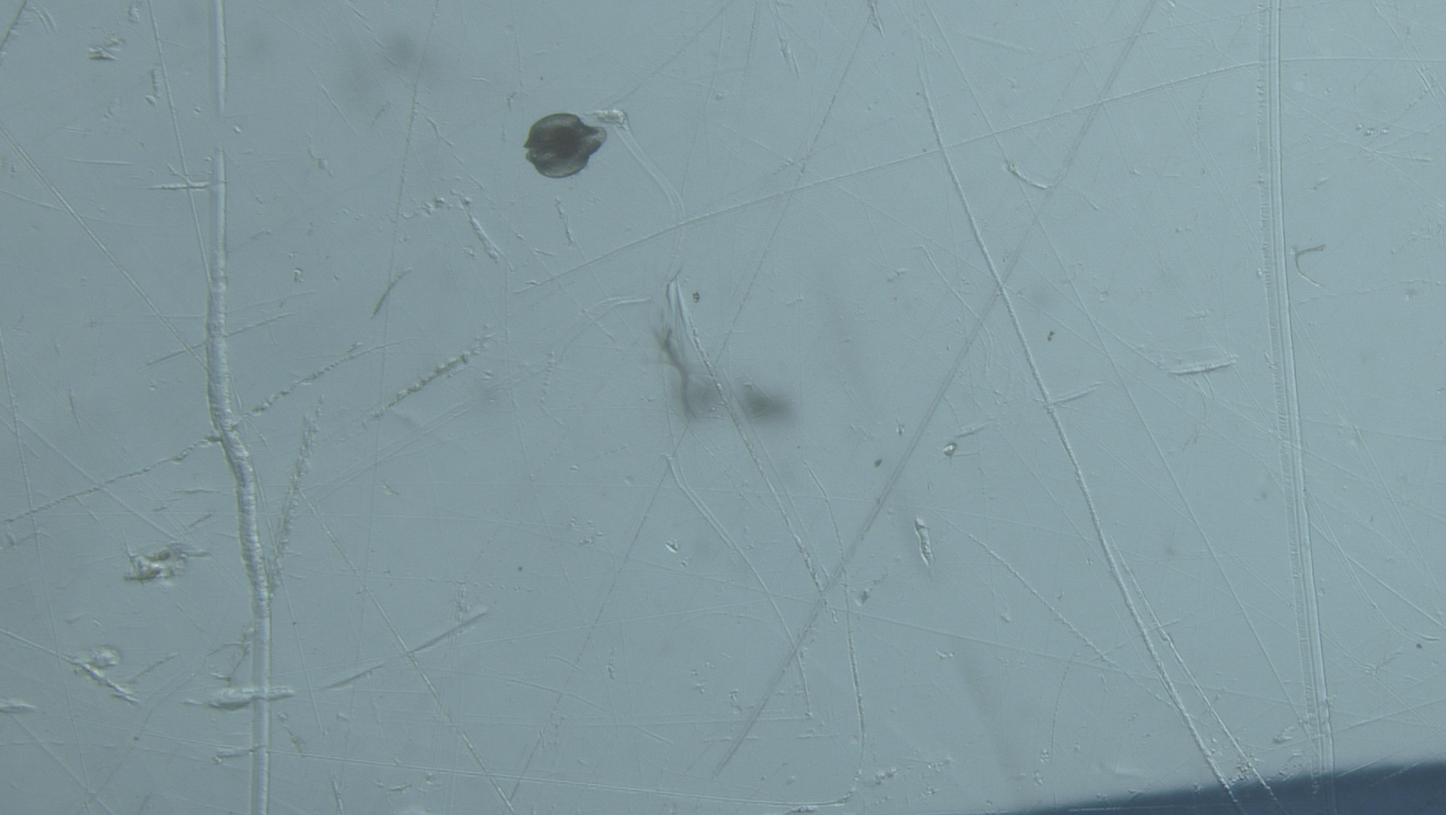live: (523, 113, 606, 179)
